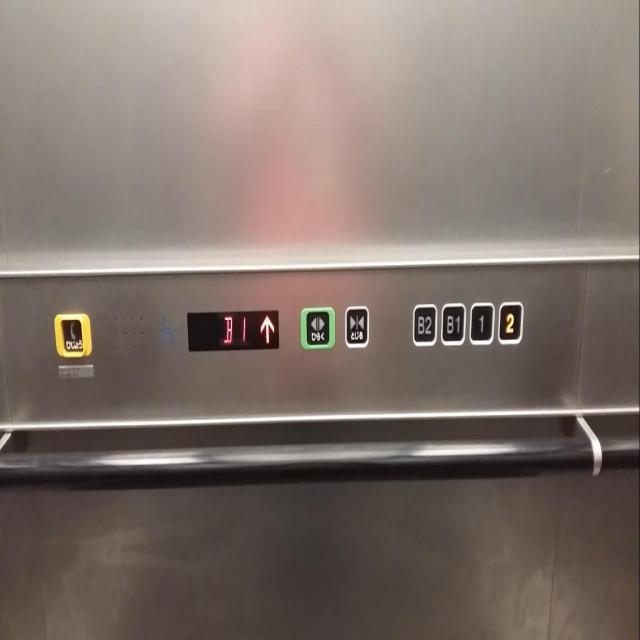1: (468, 299, 494, 348)
2: (497, 298, 524, 347)
B1: (440, 300, 466, 348)
B2: (412, 301, 438, 349)
call: (52, 309, 94, 361)
close: (343, 303, 370, 350)
led: (184, 307, 280, 353)
open: (298, 303, 338, 352)
